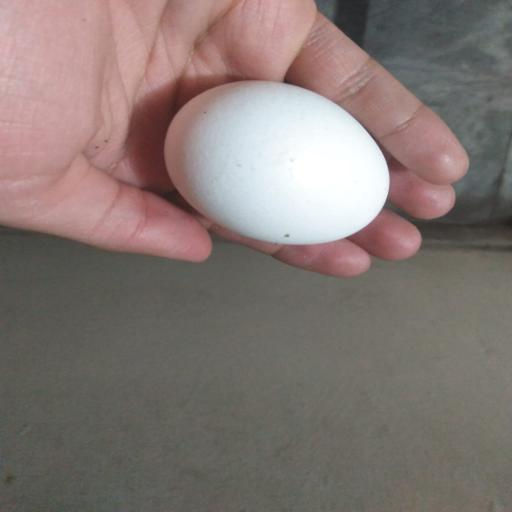telur: (155, 75, 401, 260)
